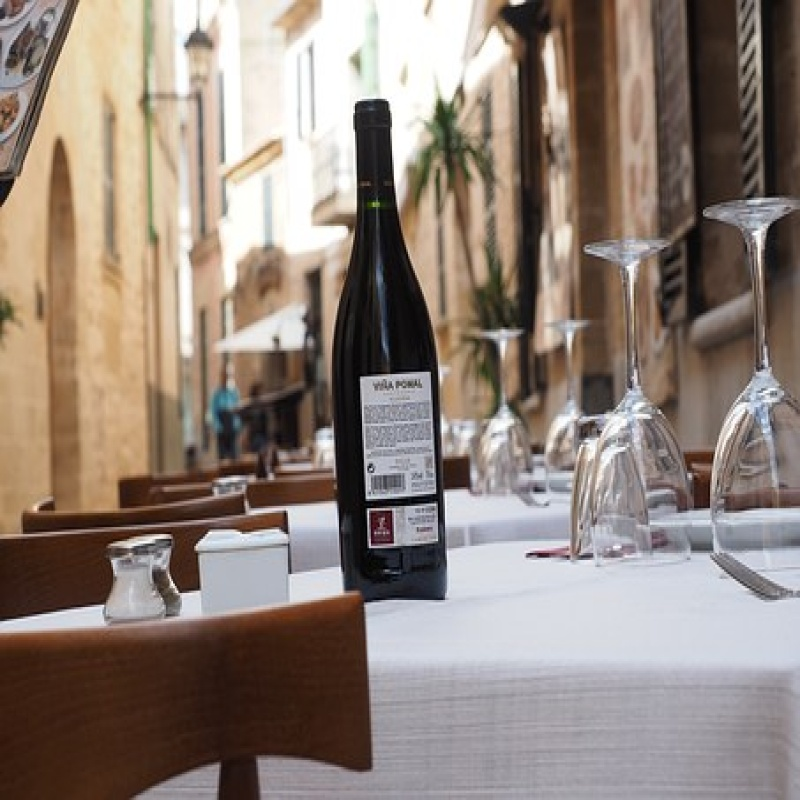wine: (328, 99, 445, 597)
